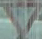Give way: (2, 0, 39, 38)
